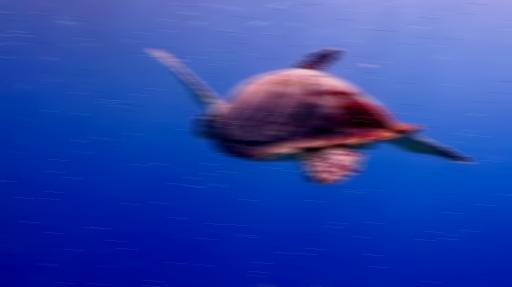Fish: (149, 48, 470, 183)
